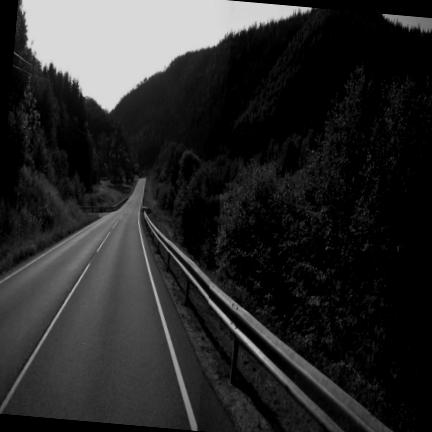Road: (0, 180, 233, 431)
